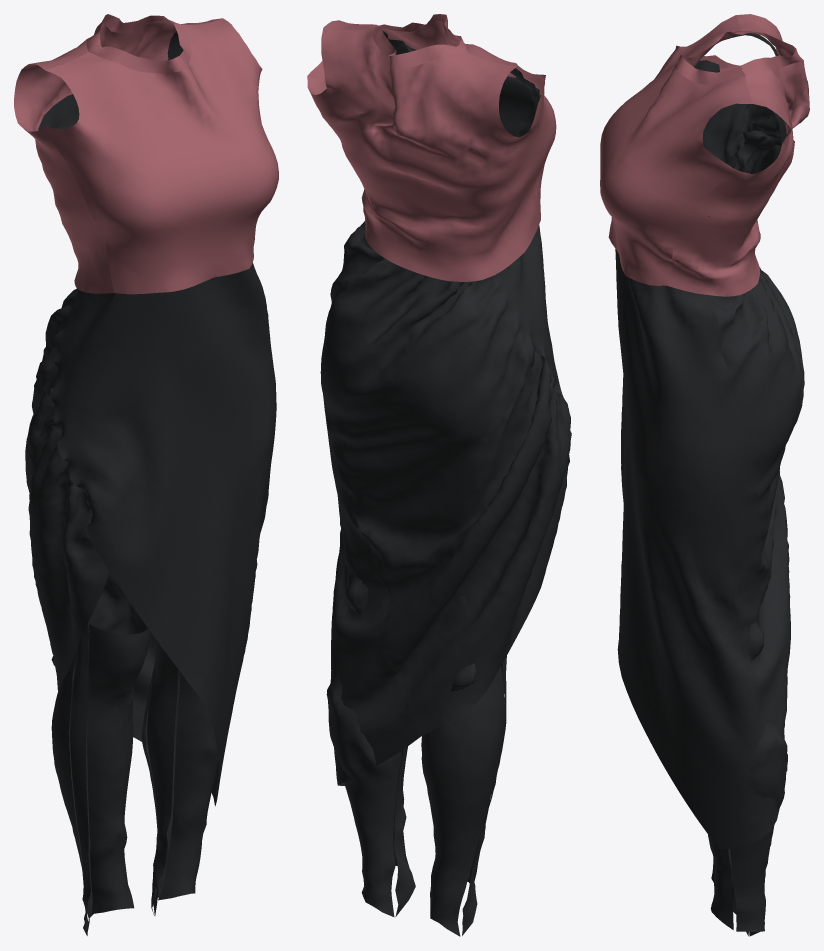
The model's file is First_dress_refit.glb.
3 views of the same model, side by side, from view 1: azimuth 30°, elevation 25°; view 2: azimuth 150°, elevation 25°; view 3: azimuth 270°, elevation 25° (orthographic).
Visible parts, largest first — view 1: Garment; view 2: Garment; view 3: Garment.
Part boxes in pixels (bbox=[...]): Garment: bbox=[14, 14, 278, 935]; Garment: bbox=[307, 14, 571, 936]; Garment: bbox=[600, 14, 809, 936].
Bounding box in the file's own units: 0.3792 × 1.37 × 0.2954.
1 material, 1 textured.
